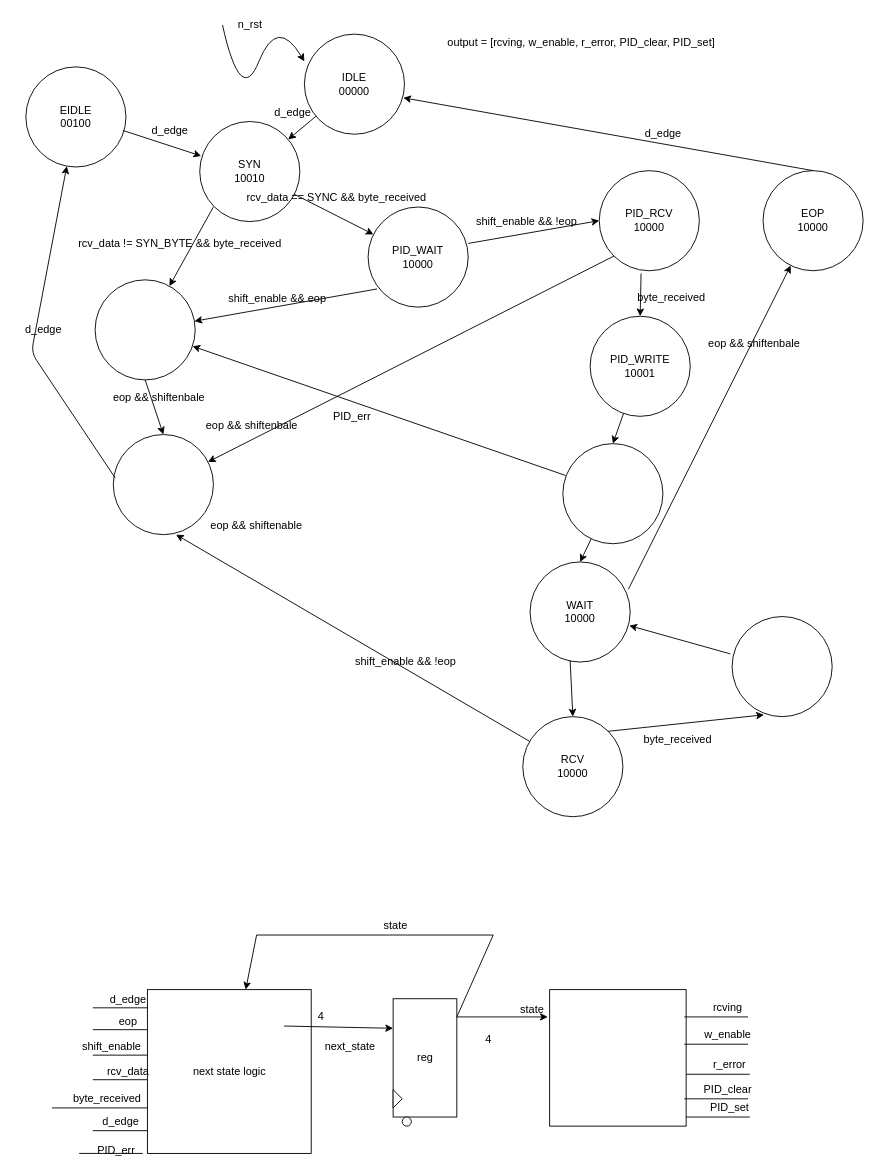
Image size: 879x1175. Some labels were removed from this diagram. The shapes that lost their labels are listed below. From the top down, each one's centre as x and y in pixels, then its label:
point (144, 329): ERR 10100
point (162, 484): EEOP 10100
point (612, 493): PID_CHECK 10000
point (781, 666): WRITE 11000
point (617, 1057): output logic
